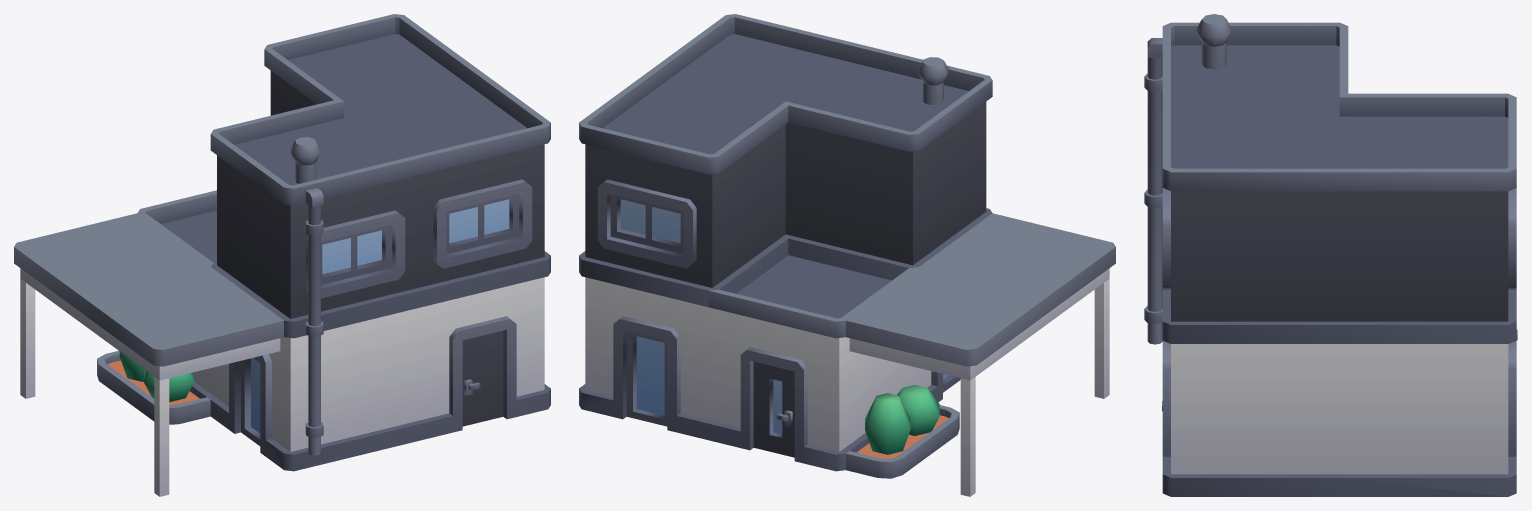
File: building-type-q.glb
3 renders of one model, left to right at view 1: azimuth 30°, elevation 25°; view 2: azimuth 150°, elevation 25°; view 3: azimuth 270°, elevation 25°, orthographic. The views are drawn at different scales.
Parts seen in each view (by area): view 1: building-type-q; view 2: building-type-q; view 3: building-type-q.
Boxes of the visible parts, x1,y1,x2,y2 form: building-type-q: [14, 14, 550, 496]; building-type-q: [579, 14, 1115, 496]; building-type-q: [1144, 14, 1517, 496].
Size of the model in its own units: 1.24 by 0.918 by 0.8856.
Materials: 1 (1 with a texture image).
